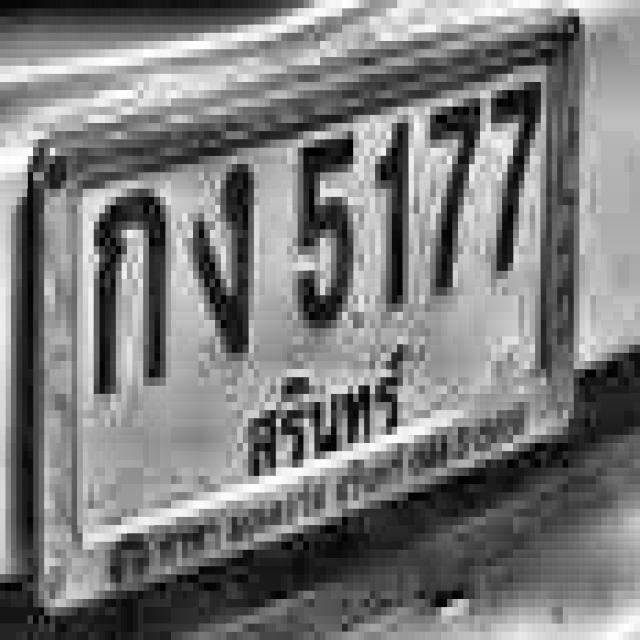license-plate: (26, 11, 578, 621)
